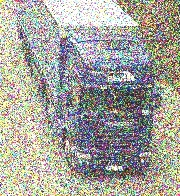truck: (16, 0, 162, 173)
